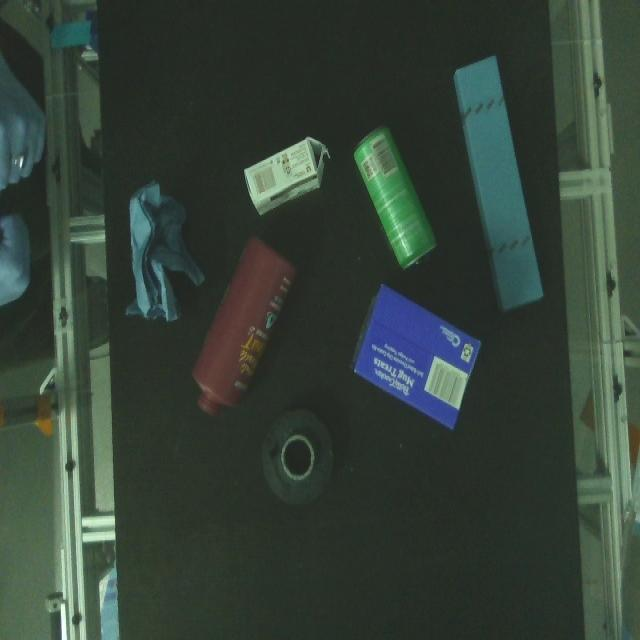non-paper: (183, 228, 303, 413), (351, 120, 441, 273), (256, 405, 342, 512)
paper: (448, 49, 554, 321), (120, 178, 208, 327), (234, 130, 330, 218)
